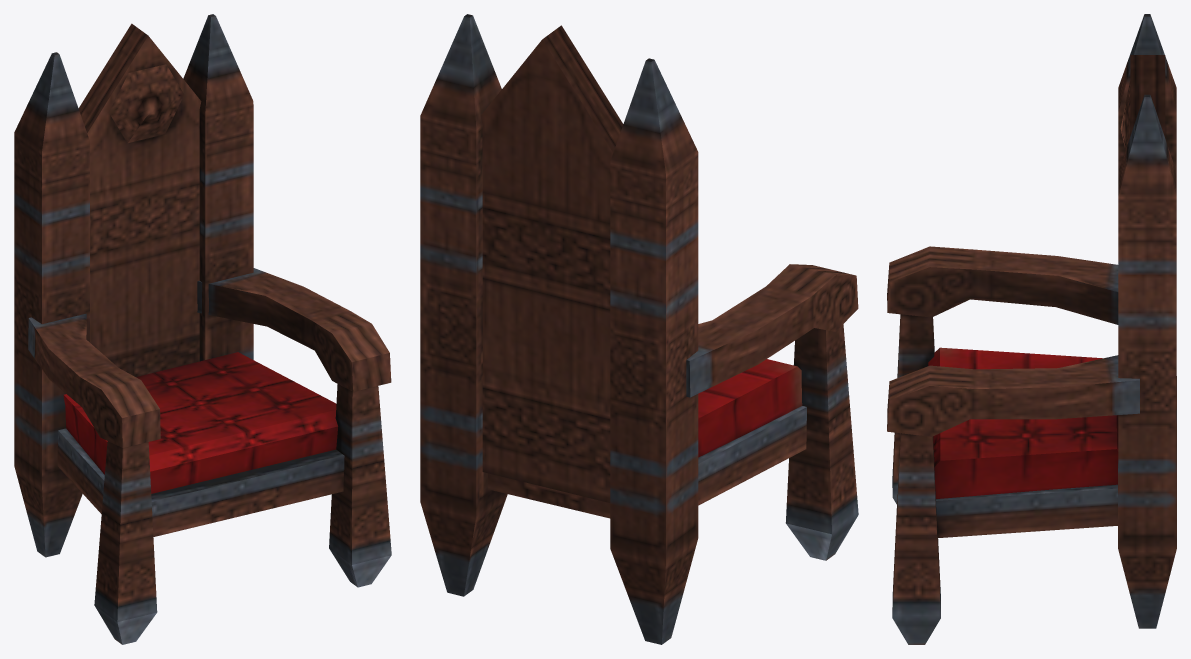
File: d_yz_shouyou_yizi03_qt.FBX
3 renders of one model, left to right at view 1: azimuth 30°, elevation 25°; view 2: azimuth 150°, elevation 25°; view 3: azimuth 270°, elevation 25°, orthographic. The views are drawn at different scales.
Parts seen in each view (by area): view 1: d_yz_shouyou_yizi03_qt; view 2: d_yz_shouyou_yizi03_qt; view 3: d_yz_shouyou_yizi03_qt.
Part boxes in pixels (<box>): d_yz_shouyou_yizi03_qt: <box>14,14,391,644</box>; d_yz_shouyou_yizi03_qt: <box>420,14,858,644</box>; d_yz_shouyou_yizi03_qt: <box>887,14,1176,644</box>.
Size of the model in its own units: 0.967 by 1.69 by 0.8365.
